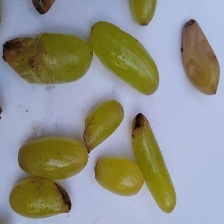grapes: (7, 19, 192, 203)
